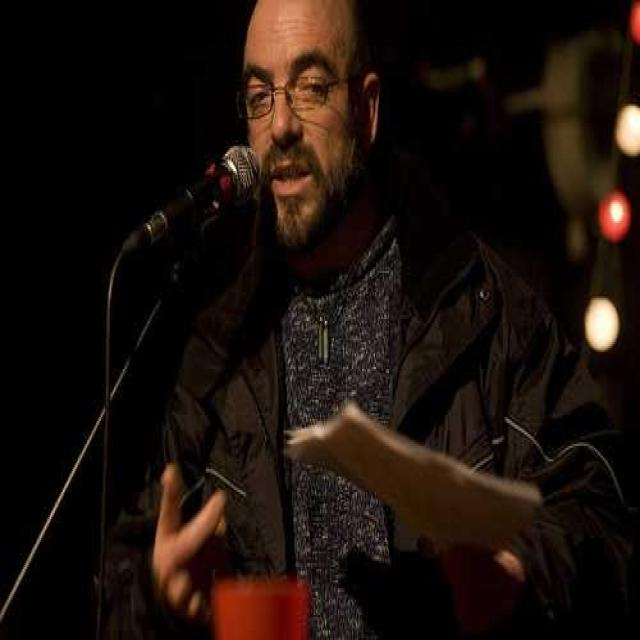microphone: (152, 134, 260, 255)
